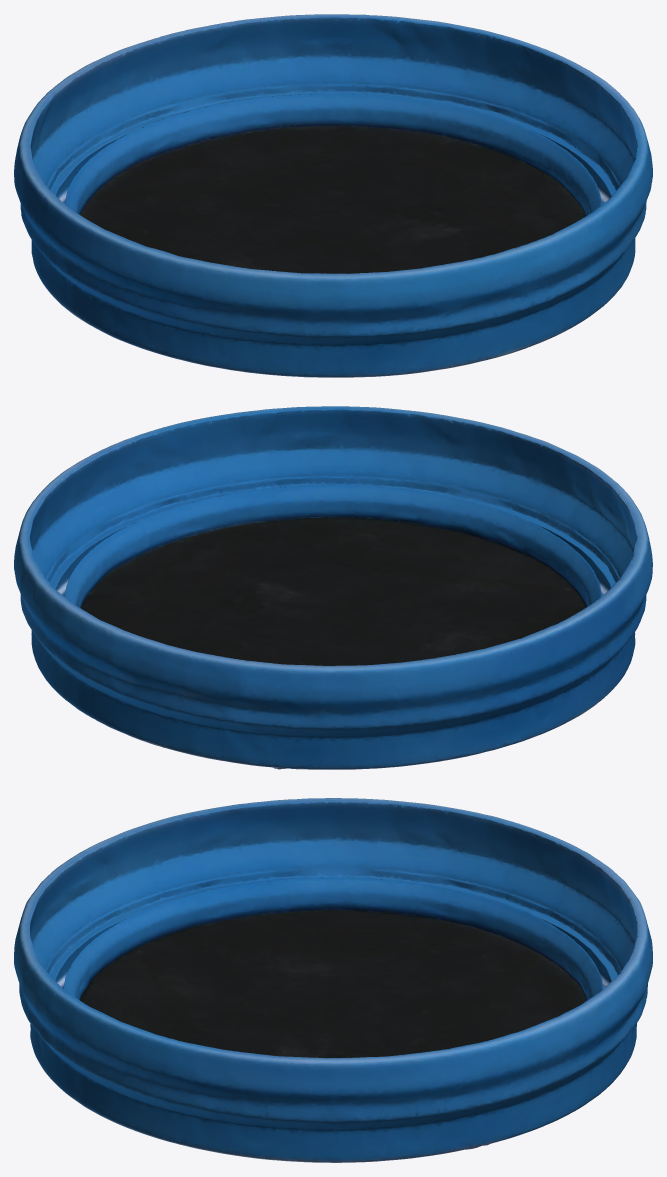
The model's file is Sea_to_Summit_Xl_Bowl.glb.
3 views of the same model, one above another, from view 1: azimuth 30°, elevation 25°; view 2: azimuth 150°, elevation 25°; view 3: azimuth 270°, elevation 25° (orthographic).
Parts seen in each view (by area): view 1: geometry_0; view 2: geometry_0; view 3: geometry_0.
Boxes of the visible parts, x1=… form: geometry_0: x1=14, y1=14, x2=652, y2=377; geometry_0: x1=14, y1=406, x2=652, y2=769; geometry_0: x1=14, y1=798, x2=652, y2=1162.
Size of the model in its own units: 0.9991 by 0.1883 by 0.9962.
Materials: 1 (1 with a texture image).
